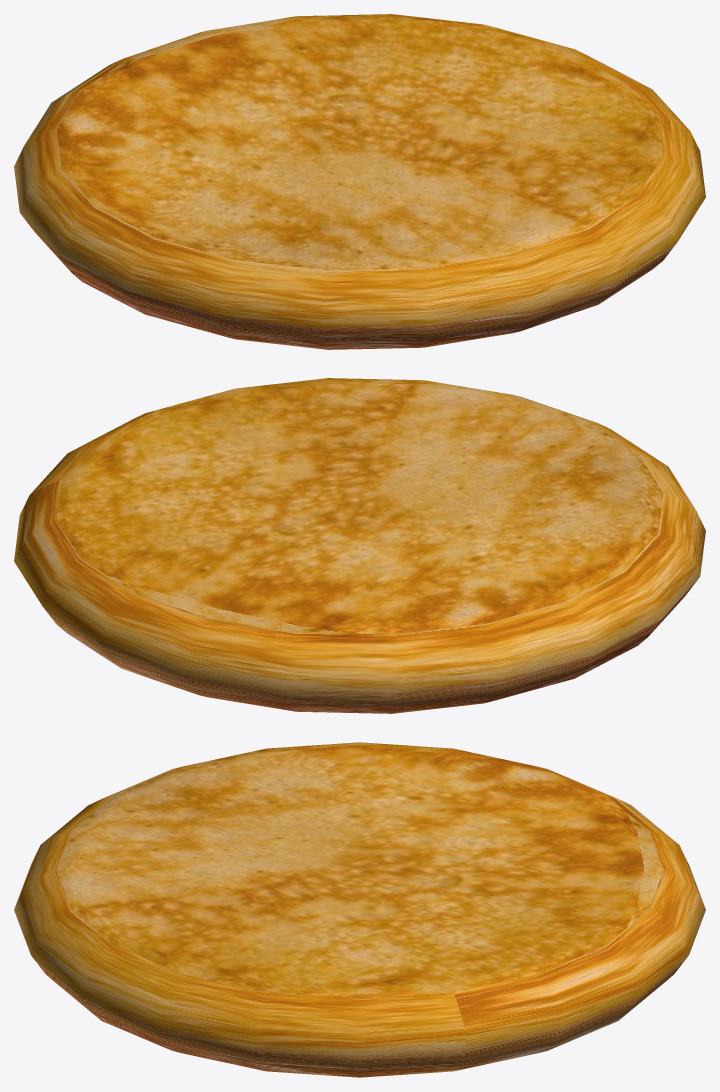
The model's file is hotcake.obj.
3 views of the same model, one above another, from view 1: azimuth 30°, elevation 25°; view 2: azimuth 150°, elevation 25°; view 3: azimuth 270°, elevation 25° (orthographic).
Parts seen in each view (by area): view 1: pCylinder3; view 2: pCylinder3; view 3: pCylinder3.
Part boxes in pixels (box(x1,y1,x2,y2)): pCylinder3: box(14, 14, 705, 349); pCylinder3: box(14, 378, 705, 713); pCylinder3: box(14, 742, 705, 1077).
Size of the model in its own units: 1.37 by 0.1841 by 1.37.
2 materials, 2 textured.
